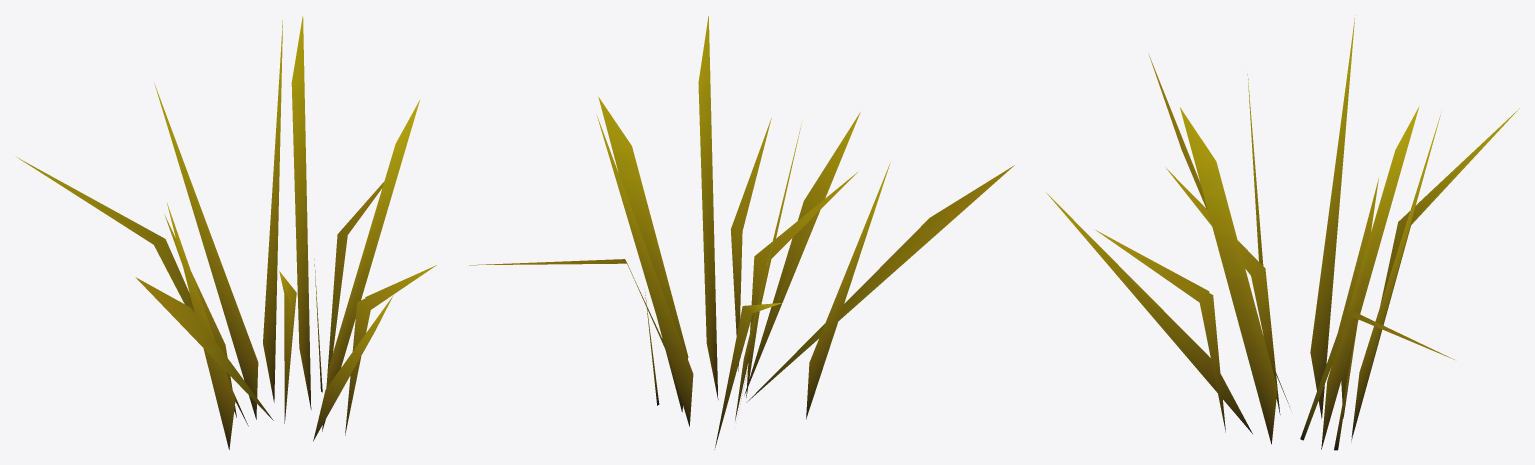
Rendered from Grass_Wispy_Short.low.gltf.
3 views of the same model, side by side, from view 1: azimuth 30°, elevation 25°; view 2: azimuth 150°, elevation 25°; view 3: azimuth 270°, elevation 25° (orthographic). The views are drawn at different scales.
Parts seen in each view (by area): view 1: Grass_Wispy_Short; view 2: Grass_Wispy_Short; view 3: Grass_Wispy_Short.
Boxes of the visible parts, x1=… form: Grass_Wispy_Short: x1=17, y1=16, x2=436, y2=449; Grass_Wispy_Short: x1=469, y1=16, x2=1014, y2=449; Grass_Wispy_Short: x1=1046, y1=15, x2=1519, y2=450.
Bounding box in the file's own units: 1.27 × 1.07 × 1.21.
Materials: 1 (1 with a texture image).
